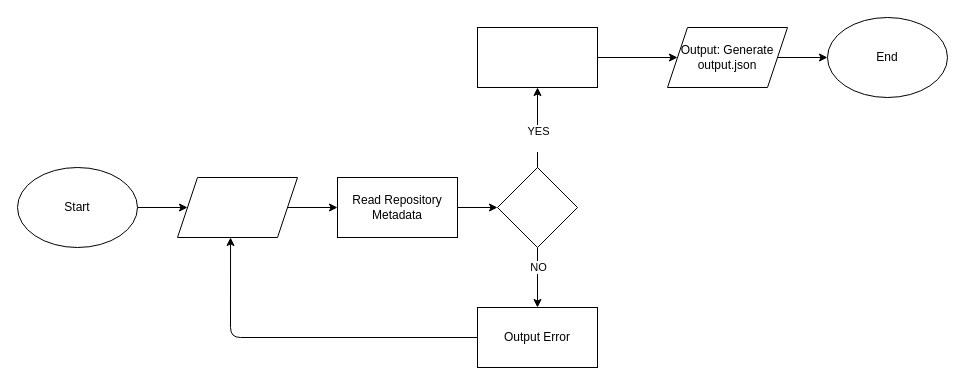
The diagram is 965 pixels wide and 385 high, and some of its shapes have lost their labels. The shapes that lost their labels are listed below. From the top down, each one's box as (x1, y1, x2, y2) in pixels, then its label:
(476, 26, 598, 88): Parse Dependencies from Metadata
(176, 176, 298, 238): Input: Public Repository Link
(496, 166, 578, 248): Dependency file Found?
